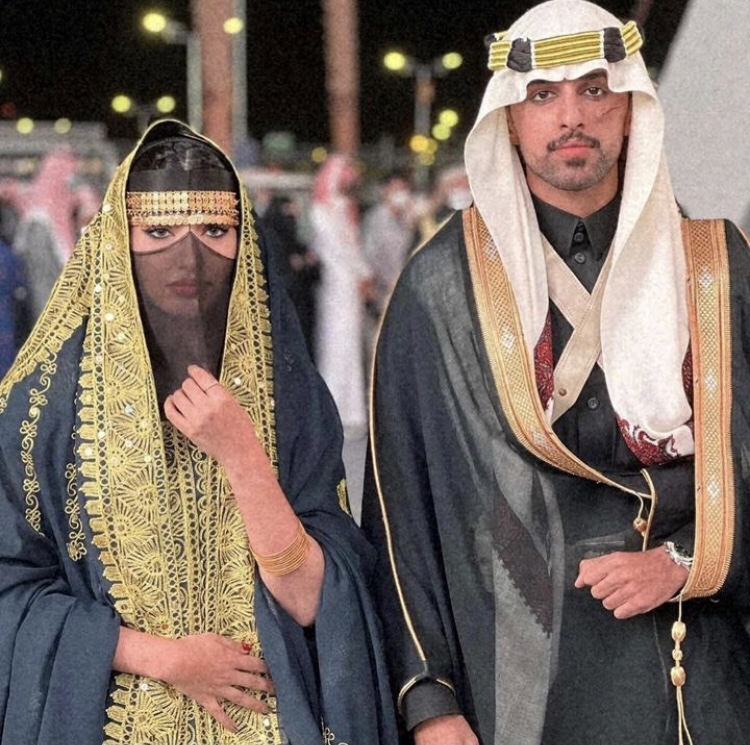Saudi_Founding_Day: (360, 3, 750, 745), (3, 113, 396, 743)
